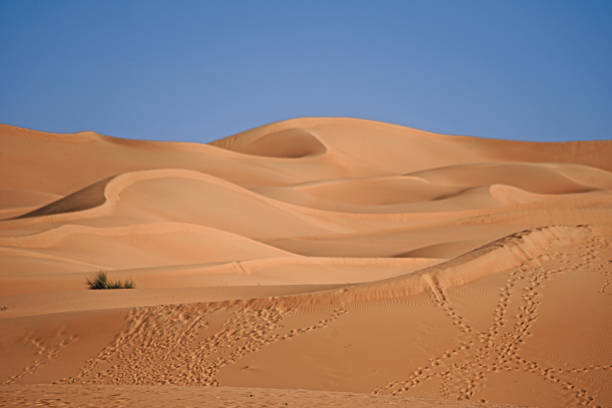animal_foot_print: (372, 240, 609, 405), (61, 301, 346, 385), (4, 328, 77, 383)
